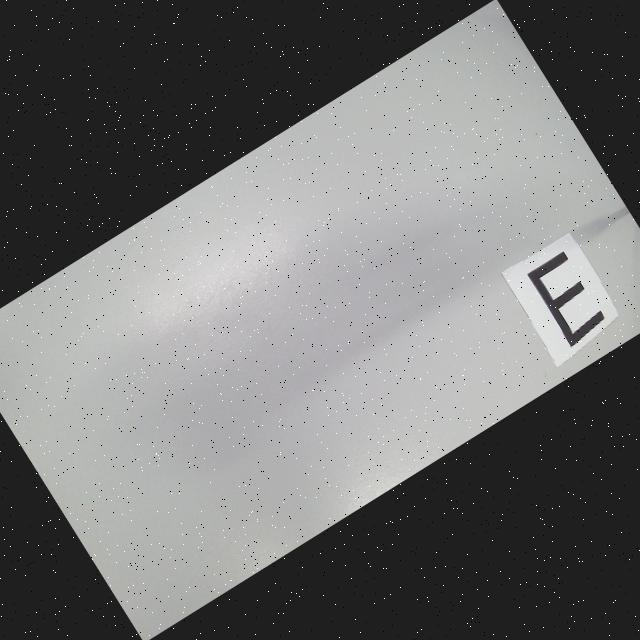FAKE: (526, 250, 610, 347)
